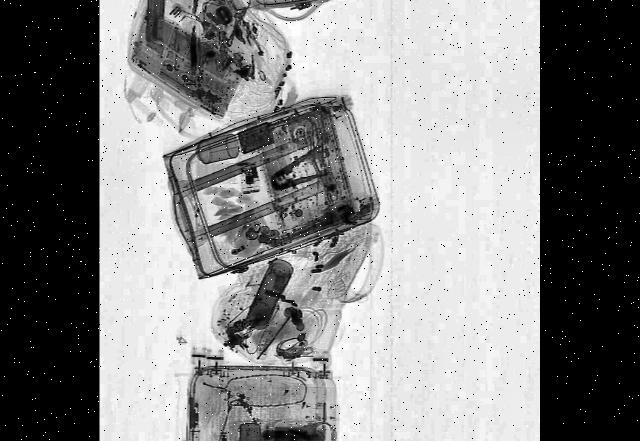Pliers: (270, 142, 330, 202)
